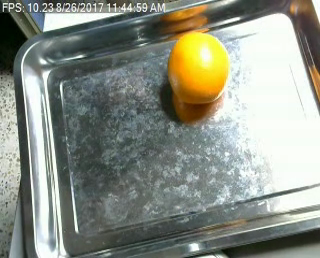Orange: (166, 31, 231, 103)
